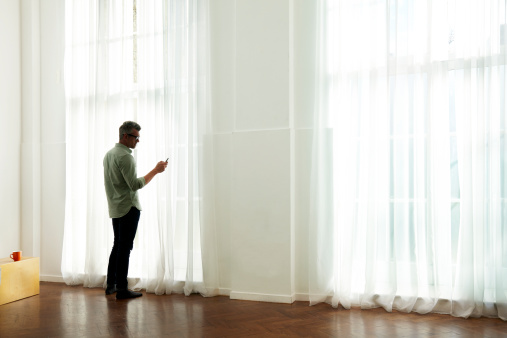em pe: (100, 117, 162, 299)
